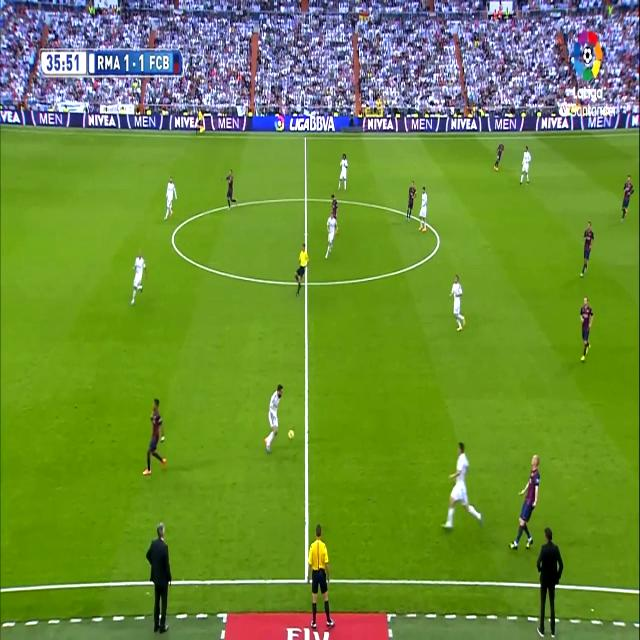bigarea_bottom_inner: (300, 567, 312, 590)
halfcircle_bottom: (302, 272, 311, 293)
halfcircle_top: (301, 188, 311, 208)
midline_top_intersection: (302, 131, 310, 145)
